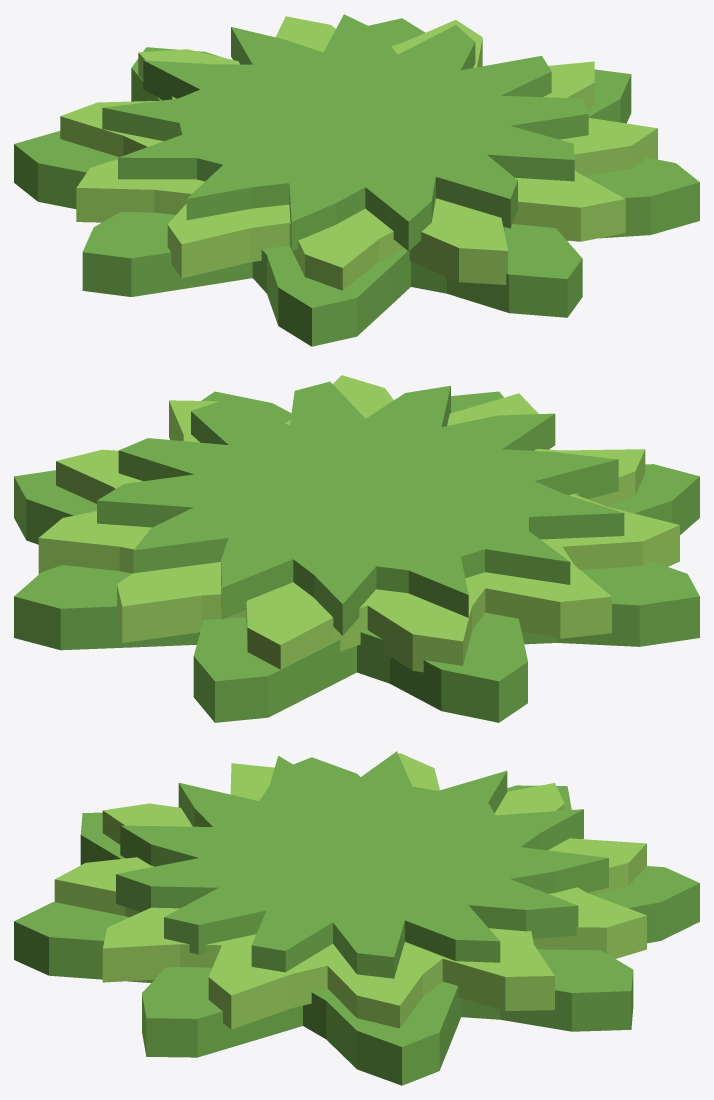
File: ingredient-lettuce.glb
The picture shows the model from 3 angles, top to bottom: view 1: azimuth 30°, elevation 25°; view 2: azimuth 150°, elevation 25°; view 3: azimuth 270°, elevation 25°; orthographic projection. The views are drawn at different scales.
Parts seen in each view (by area): view 1: LettuceRuffle, LettuceMiddle, IngredientLettuce; view 2: LettuceRuffle, IngredientLettuce, LettuceMiddle; view 3: LettuceRuffle, LettuceMiddle, IngredientLettuce.
Boxes of the visible parts, x1,y1,x2,y2 form: LettuceRuffle: [102, 14, 588, 251]; LettuceMiddle: [60, 16, 657, 290]; IngredientLettuce: [14, 18, 699, 346]; LettuceRuffle: [97, 381, 624, 635]; IngredientLettuce: [14, 391, 699, 722]; LettuceMiddle: [38, 375, 679, 672]; LettuceRuffle: [116, 751, 608, 978]; LettuceMiddle: [54, 753, 646, 1029]; IngredientLettuce: [14, 757, 699, 1085].
Bounding box in the file's own units: 1.37 × 0.182 × 1.37.
